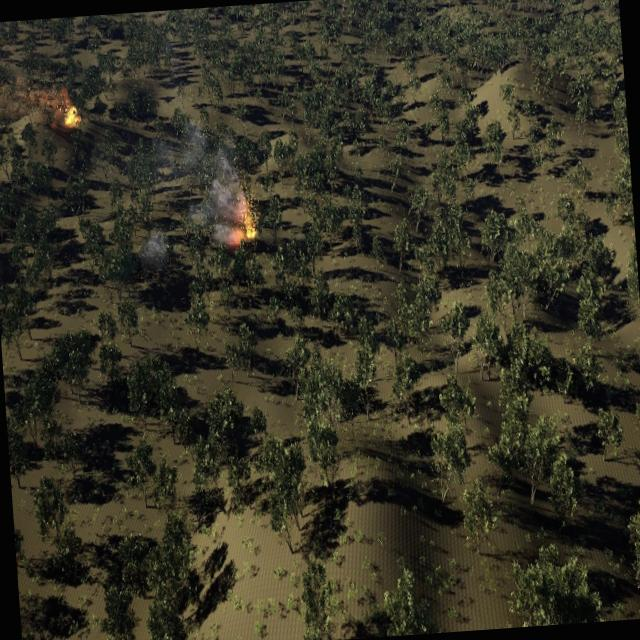fire: (230, 200, 258, 246), (64, 107, 78, 128)
smoke: (165, 122, 250, 259), (34, 80, 72, 124), (138, 230, 169, 270)
